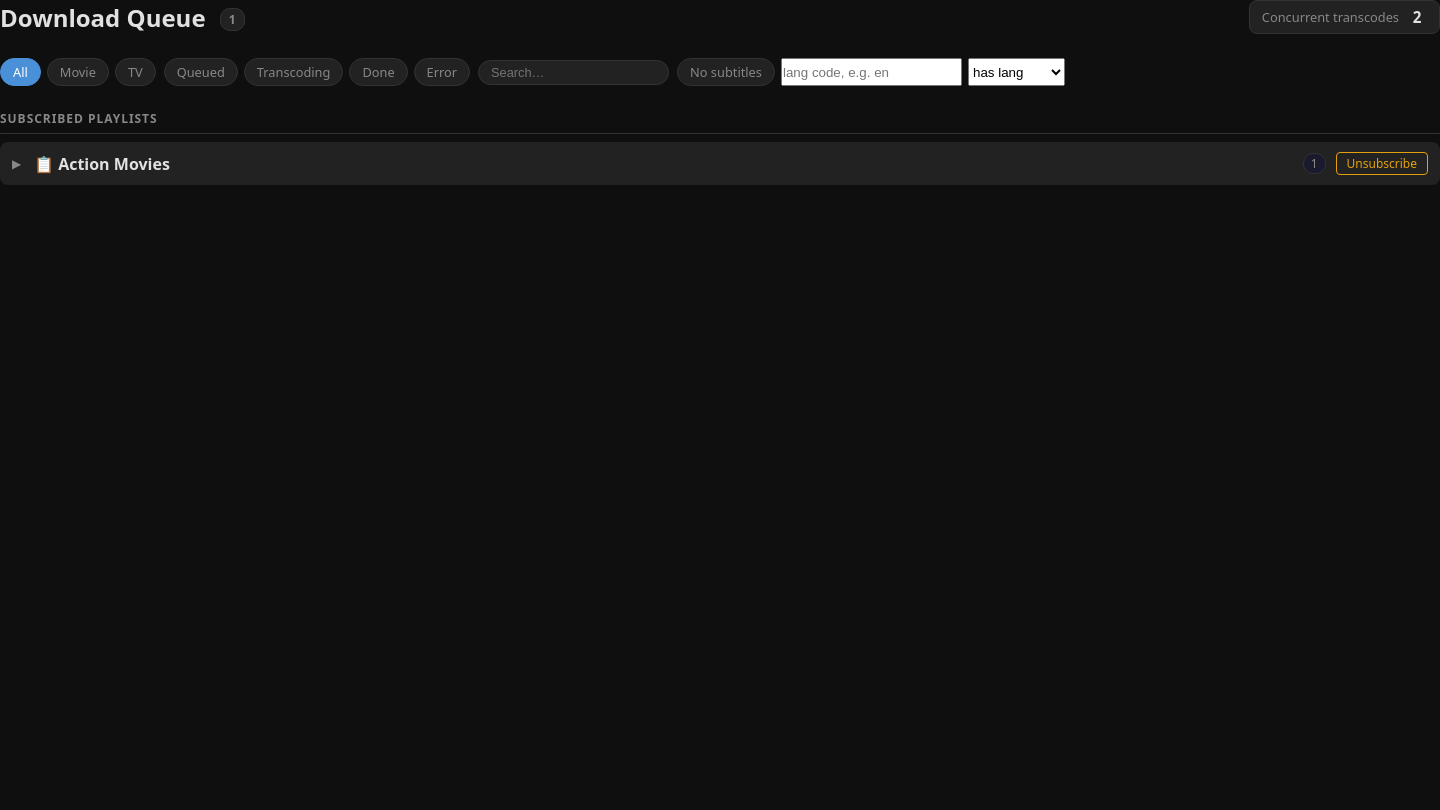
Test case: QueueView › unsubscribe button shows confirm modal
Click the button with test id "unsub-btn-5": (1382, 164) [1336,152,1428,175]
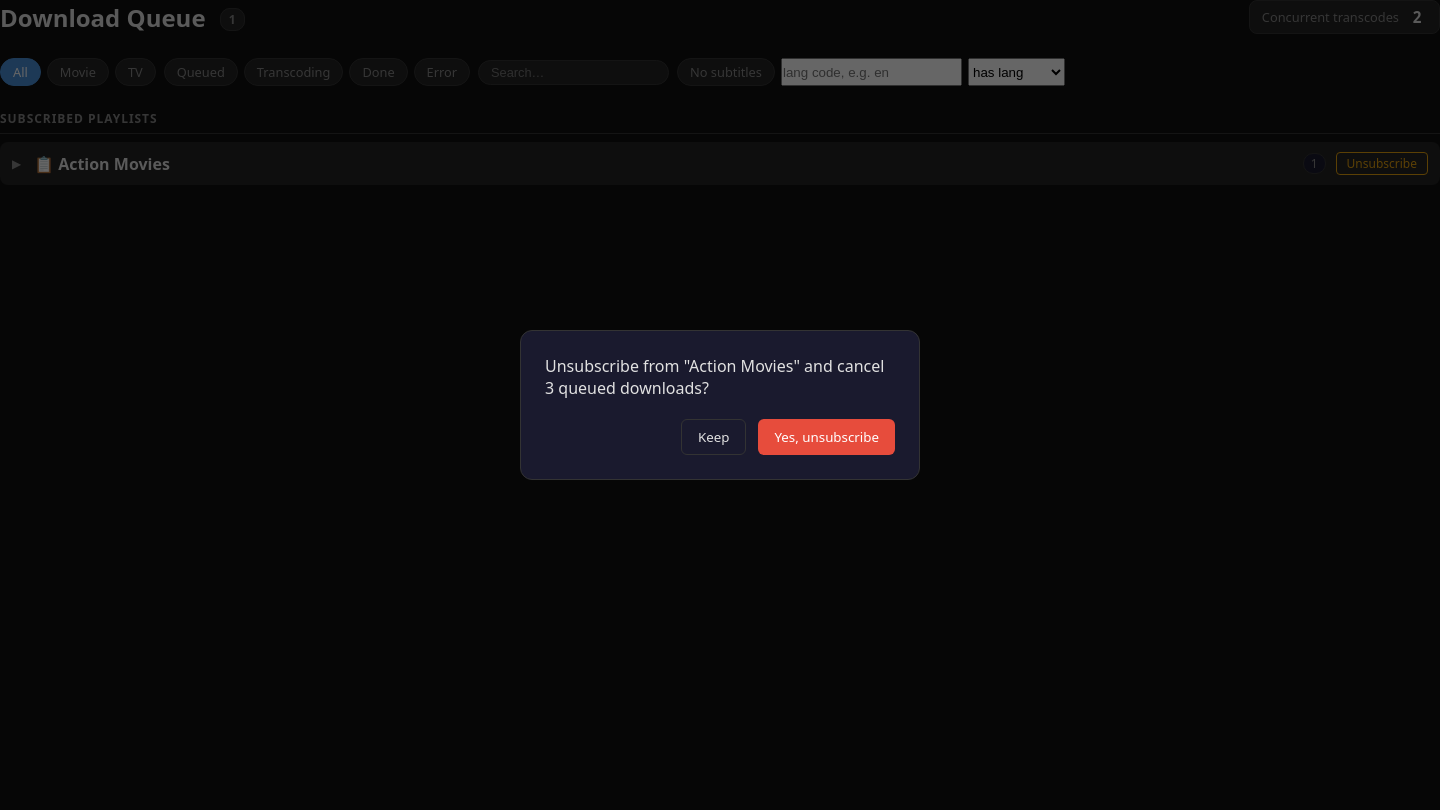
expect the text with class "modal-message" shows "3": met, box [545,355,884,399]
expect the text with class "modal-message" shows "Action Movies": met, box [545,355,884,399]
